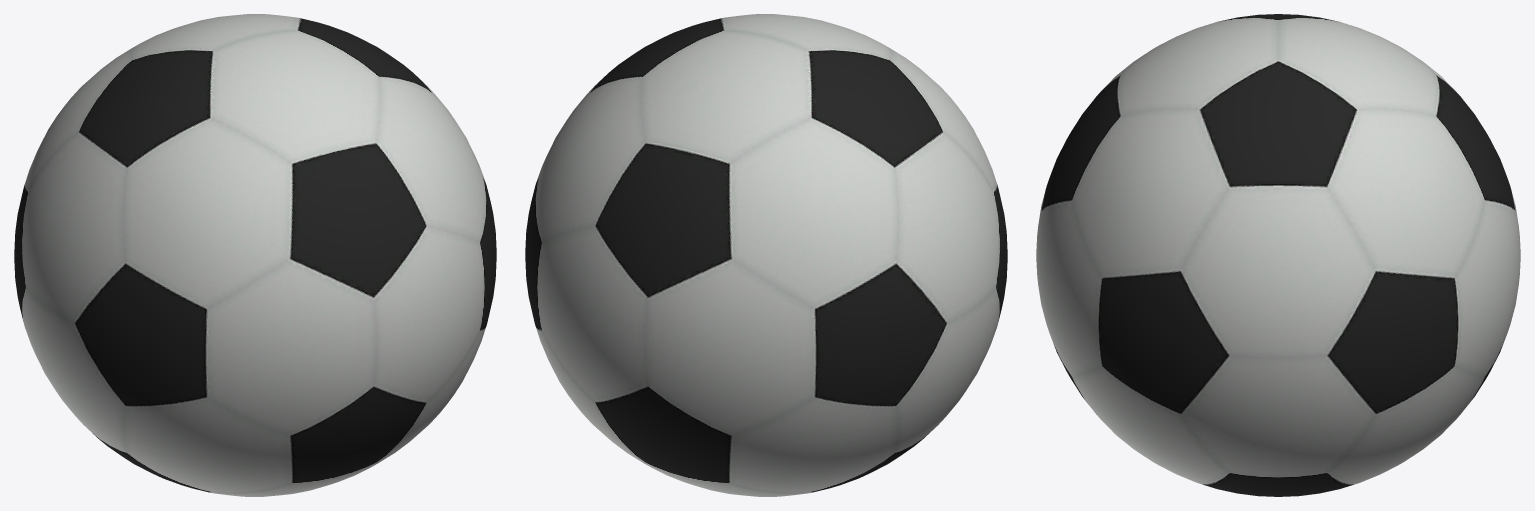
File: football.glb
3 renders of one model, left to right at view 1: azimuth 30°, elevation 25°; view 2: azimuth 150°, elevation 25°; view 3: azimuth 270°, elevation 25°, orthographic.
Visible parts, largest first — view 1: ball-material; view 2: ball-material; view 3: ball-material.
Part boxes in pixels (left/top/right/bottom): ball-material: left=14, top=14, right=496, bottom=496; ball-material: left=525, top=14, right=1007, bottom=496; ball-material: left=1036, top=14, right=1520, bottom=496.
Bounding box in the file's own units: 1.92 × 1.92 × 1.92.
1 material, 1 textured.
